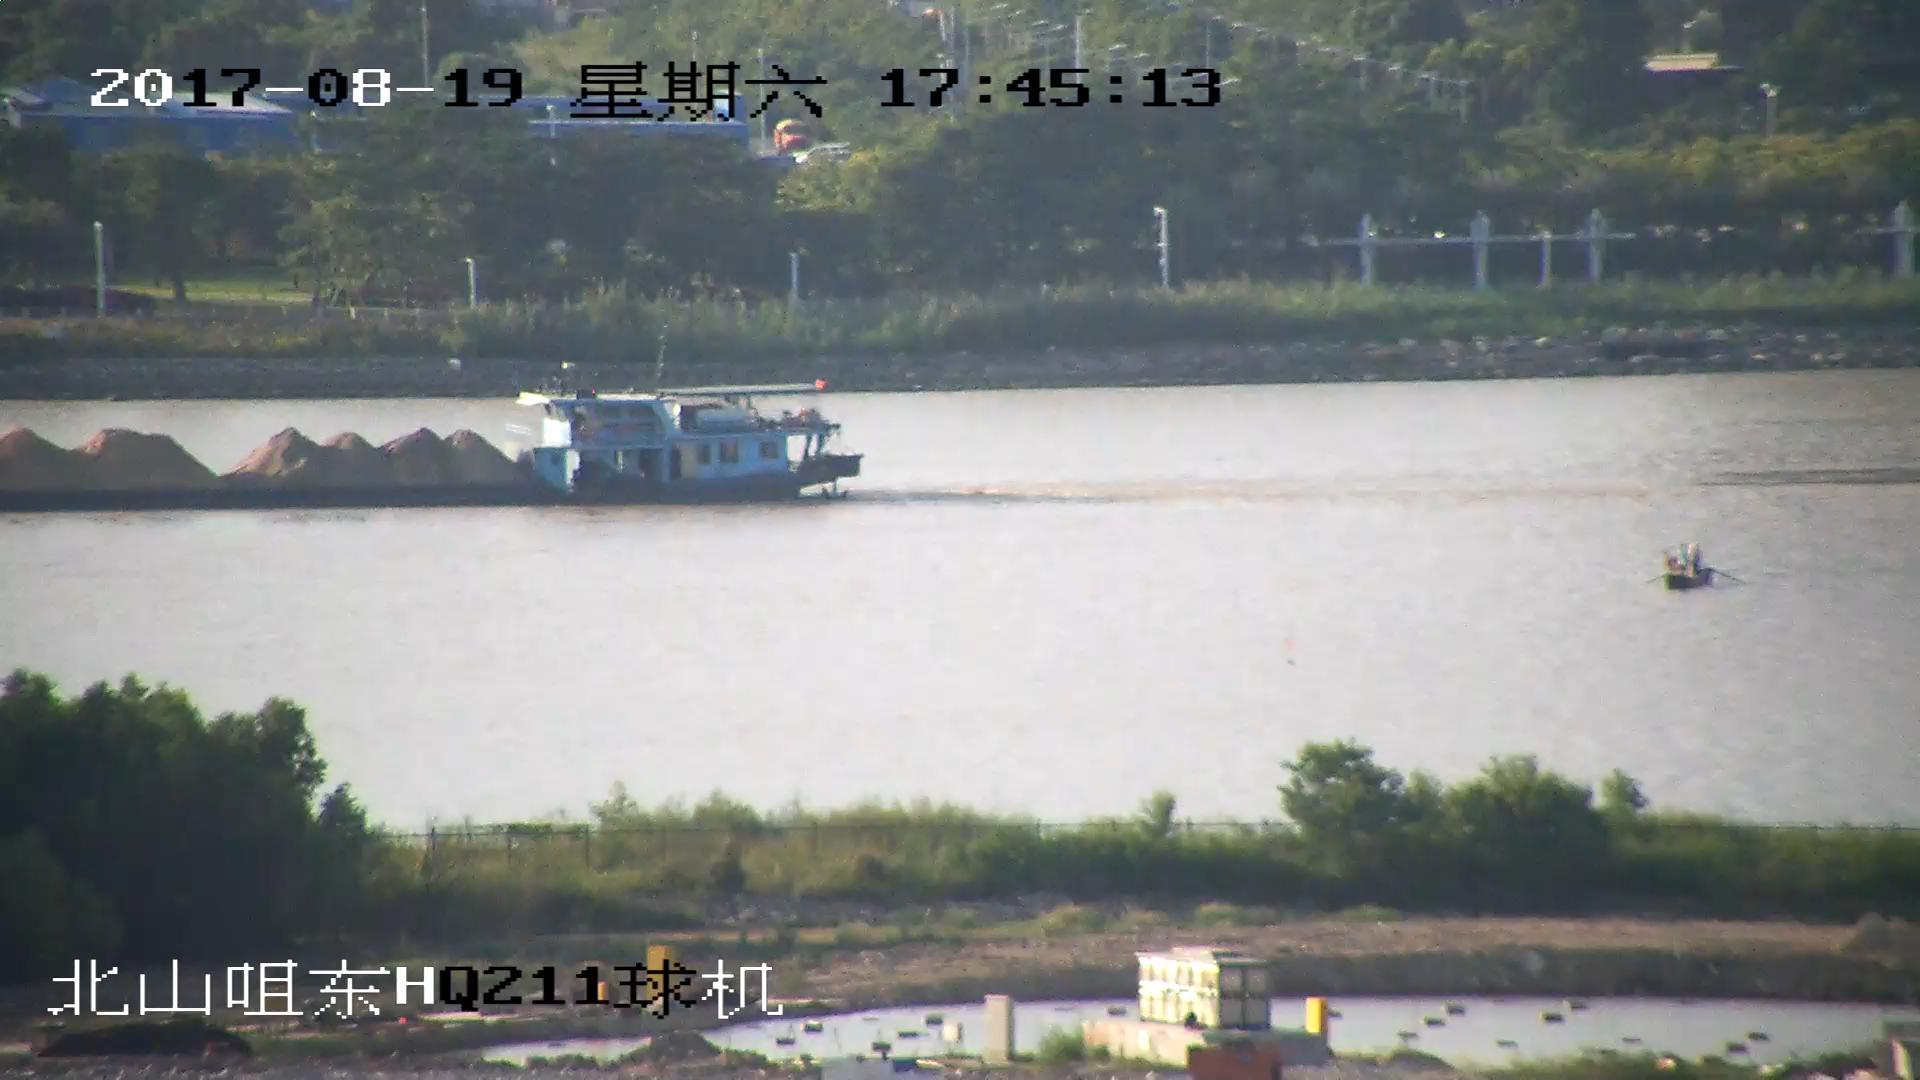Ship: (3, 349, 864, 513), (1662, 535, 1717, 591)
